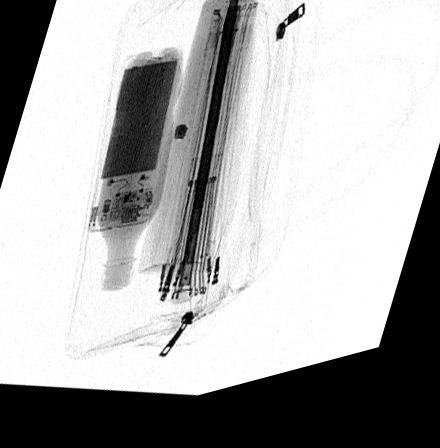Powerbank: (86, 63, 182, 240)
